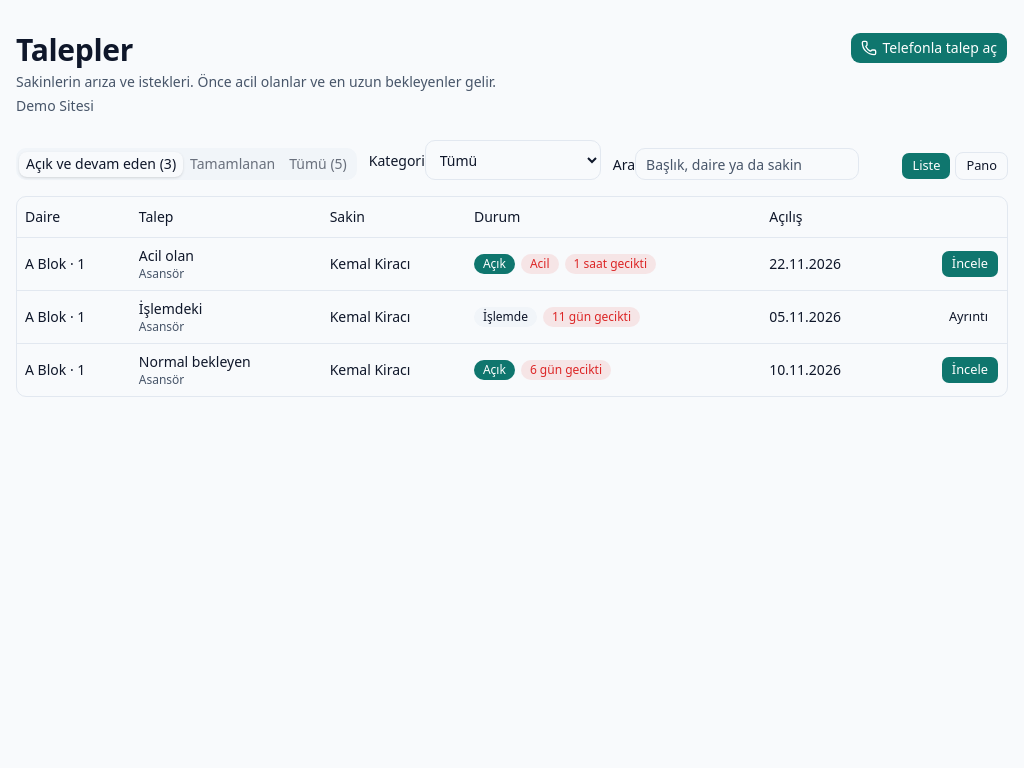
Test: Talepler (the admin list) › shows the board: one column per step, with the requests in the right one, and no column for a cancelled request
Expected: the text "Acil olan" is shown, x1=139 y1=246 x2=194 y2=264
Step 1. Click the button "Pano" → (982, 166), box x1=955 y1=152 x2=1008 y2=180
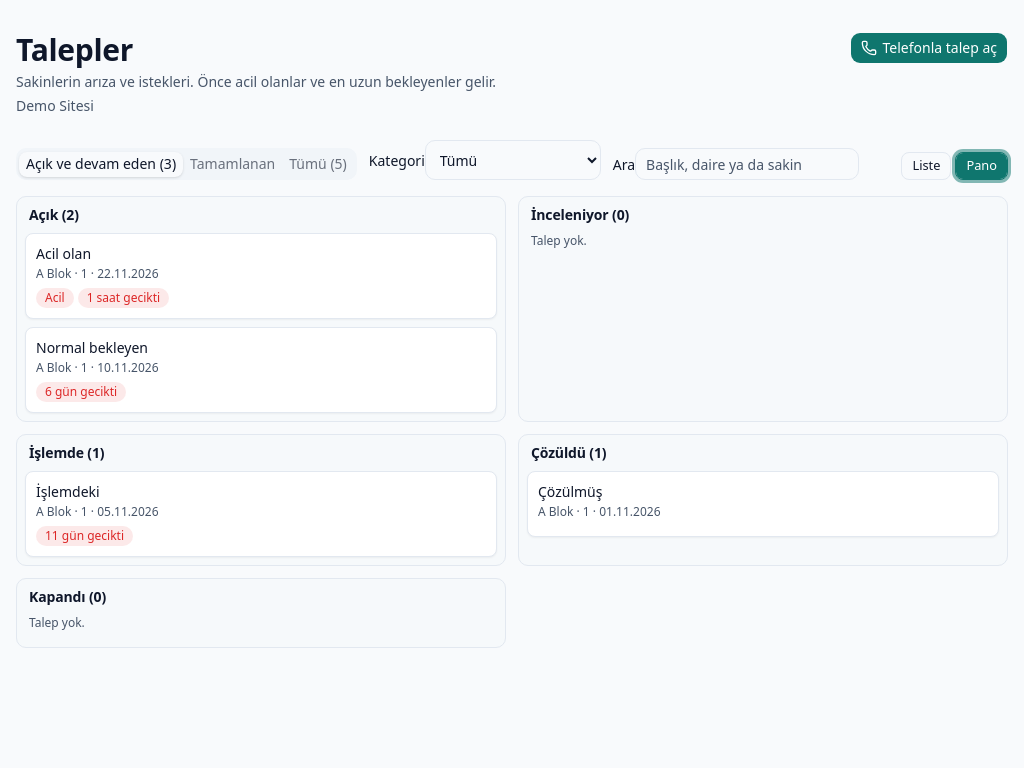
Expected: the text "Acil olan" is shown, x1=36 y1=244 x2=91 y2=263
Result: the text "Çözülmüş" is shown at x1=538 y1=482 x2=602 y2=501
Result: the element named "Kapandı sütunu" shows "Talep yok." at x1=29 y1=614 x2=85 y2=631
